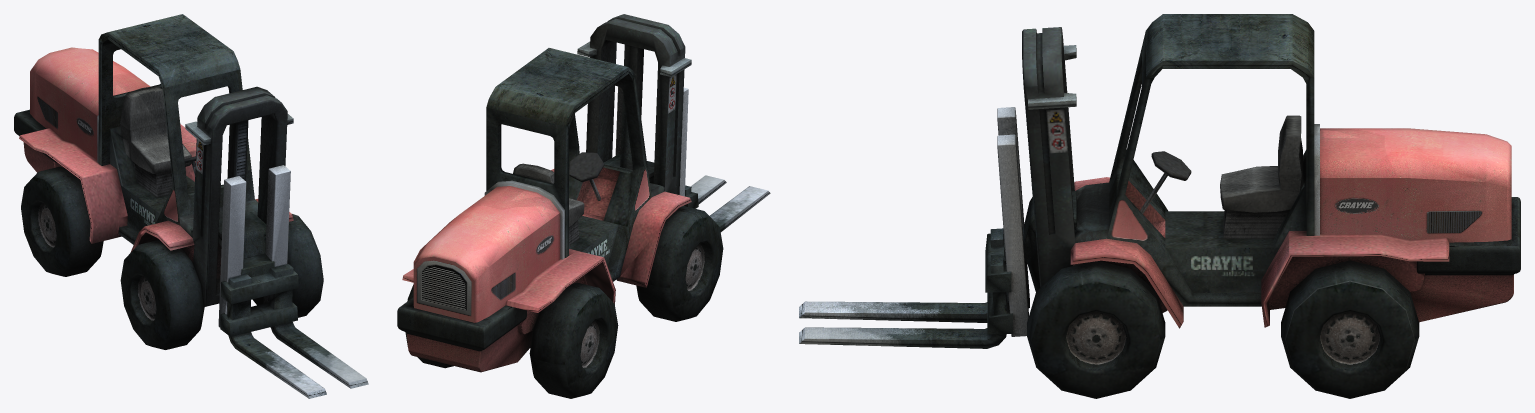
Rendered from SeparatedForklift.fbx.
3 renders of one model, left to right at view 1: azimuth 30°, elevation 25°; view 2: azimuth 150°, elevation 25°; view 3: azimuth 270°, elevation 25°, orthographic. The views are drawn at different scales.
Visible parts, largest first — view 1: Body, Fork, Front_R_Tire, Rear_R_Tire, Front_L_Tire; view 2: Body, Rear_R_Tire, Front_R_Tire, Fork; view 3: Body, Fork, Rear_L_Tire, Front_L_Tire.
Part boxes in pixels (x1=…): Body: x1=14, y1=14, x2=293, y2=306; Fork: x1=218, y1=165, x2=368, y2=398; Front_R_Tire: x1=120, y1=239, x2=204, y2=349; Rear_R_Tire: x1=21, y1=166, x2=103, y2=276; Front_L_Tire: x1=252, y1=214, x2=323, y2=317; Body: x1=397, y1=14, x2=691, y2=372; Rear_R_Tire: x1=529, y1=282, x2=618, y2=398; Front_R_Tire: x1=636, y1=206, x2=723, y2=321; Fork: x1=604, y1=86, x2=770, y2=232; Body: x1=1022, y1=14, x2=1520, y2=328; Fork: x1=799, y1=107, x2=1076, y2=348; Rear_L_Tire: x1=1281, y1=260, x2=1419, y2=398; Front_L_Tire: x1=1027, y1=261, x2=1165, y2=398.
Size of the model in its own units: 184 by 276 by 569.
